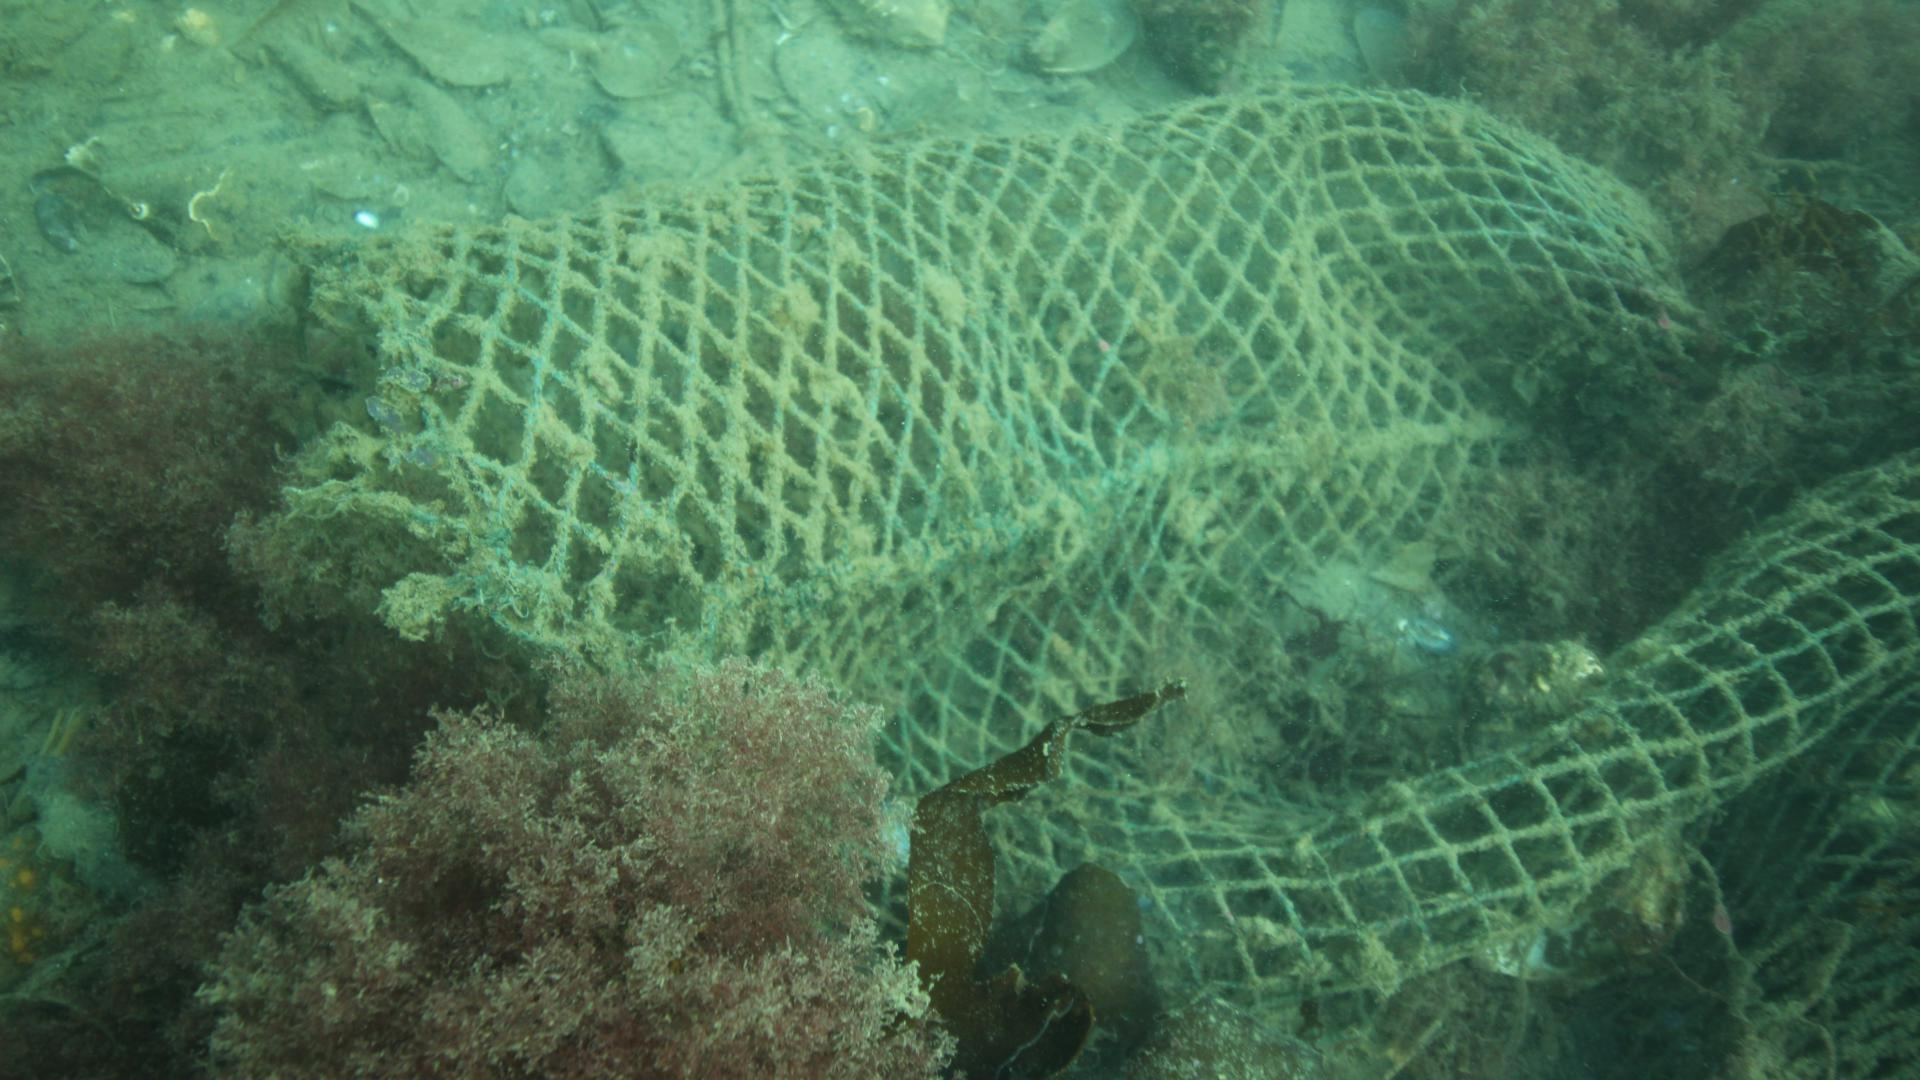fish net: (393, 82, 1920, 1005)
